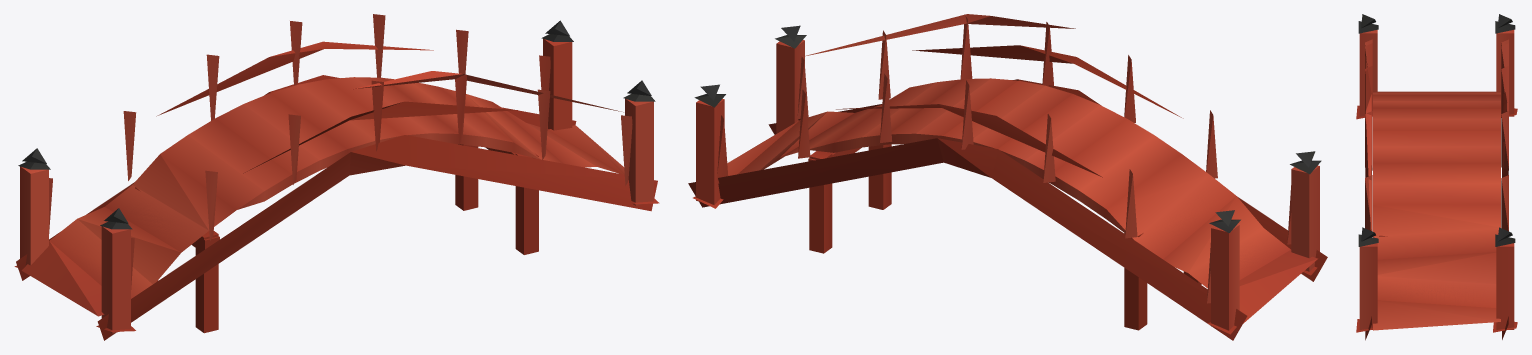
File: zen_bridge-lod1.glb
3 renders of one model, left to right at view 1: azimuth 30°, elevation 25°; view 2: azimuth 150°, elevation 25°; view 3: azimuth 270°, elevation 25°, orthographic. The views are drawn at different scales.
Parts seen in each view (by area): view 1: zen_bridge; view 2: zen_bridge; view 3: zen_bridge.
Part boxes in pixels (x1,y1,x2,y2): zen_bridge: (14, 14, 659, 340); zen_bridge: (688, 14, 1327, 340); zen_bridge: (1356, 14, 1517, 340).
Size of the model in its own units: 9.17 by 3.35 by 2.72.
